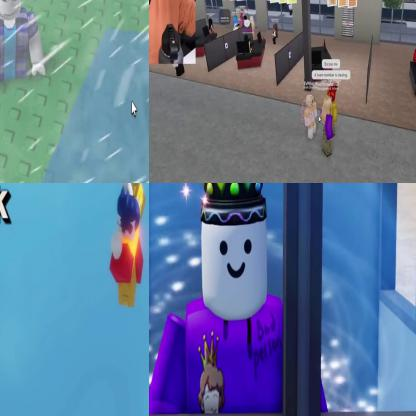Roblox-Avatar: (150, 184, 330, 416), (110, 184, 148, 310), (1, 1, 48, 92), (321, 96, 336, 158), (328, 83, 339, 137), (305, 96, 318, 141), (274, 24, 280, 46)
